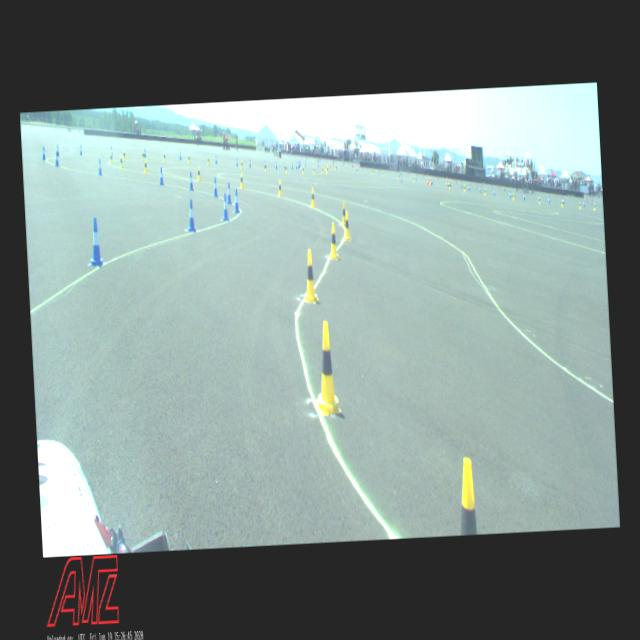blue_cone: (88, 217, 104, 266), (186, 199, 196, 231), (222, 193, 230, 220), (233, 189, 240, 212), (226, 182, 232, 204), (213, 177, 218, 197), (189, 172, 194, 190), (160, 167, 164, 185), (98, 158, 102, 175), (144, 148, 146, 158), (215, 155, 217, 164), (179, 152, 181, 160), (236, 158, 238, 166)
yellow_cone: (312, 320, 341, 414), (457, 458, 477, 534), (302, 248, 318, 304), (328, 222, 338, 259), (343, 210, 351, 240), (340, 202, 346, 226), (310, 188, 316, 208), (239, 172, 244, 189), (143, 158, 148, 174), (278, 180, 282, 196), (197, 166, 201, 182), (109, 150, 113, 165), (120, 155, 124, 168), (123, 149, 126, 161), (163, 152, 166, 161), (142, 150, 144, 161), (208, 156, 210, 166), (240, 160, 242, 170), (188, 154, 190, 163)
